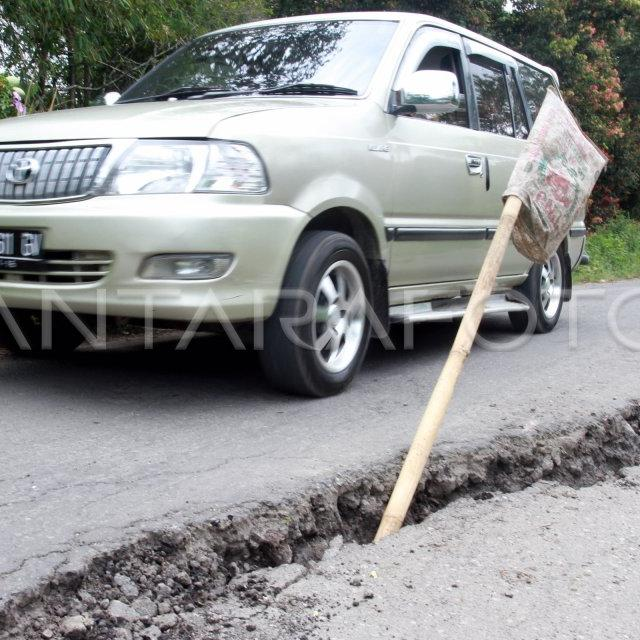retak_memanjang: (0, 391, 640, 640)
